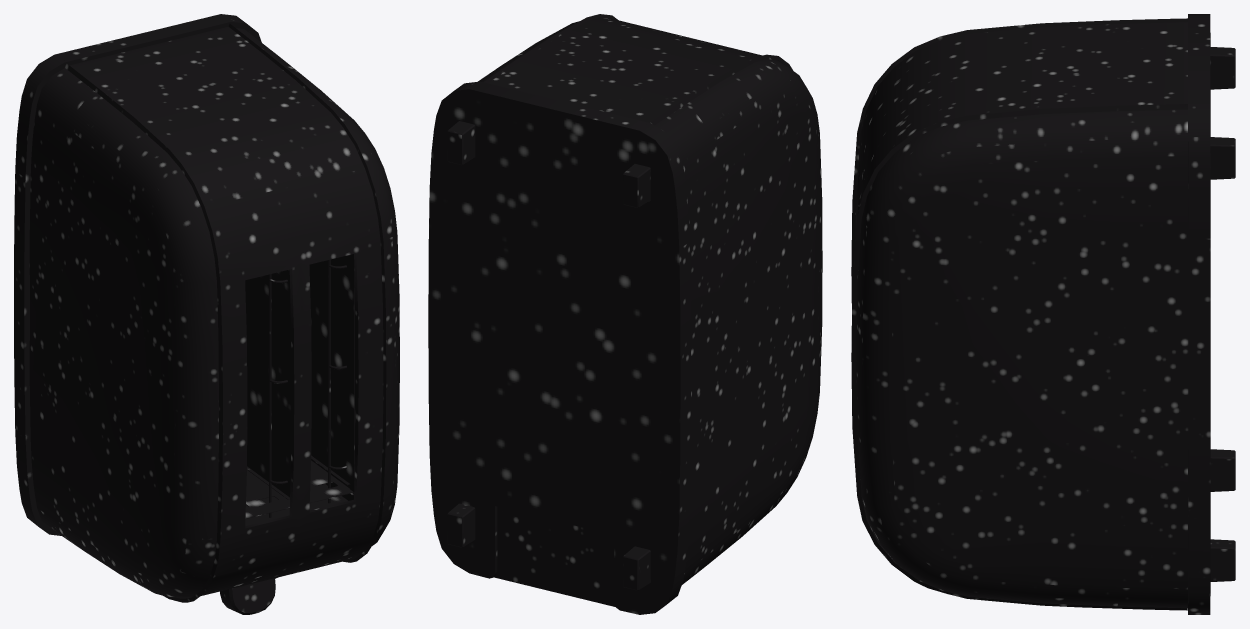
3 views of the same model, side by side, from view 1: azimuth 30°, elevation 25°; view 2: azimuth 150°, elevation 25°; view 3: azimuth 270°, elevation 25° (orthographic). The views are drawn at different scales.
Bounding box in the file's own units: 0.5201 × 1 × 0.6525.
